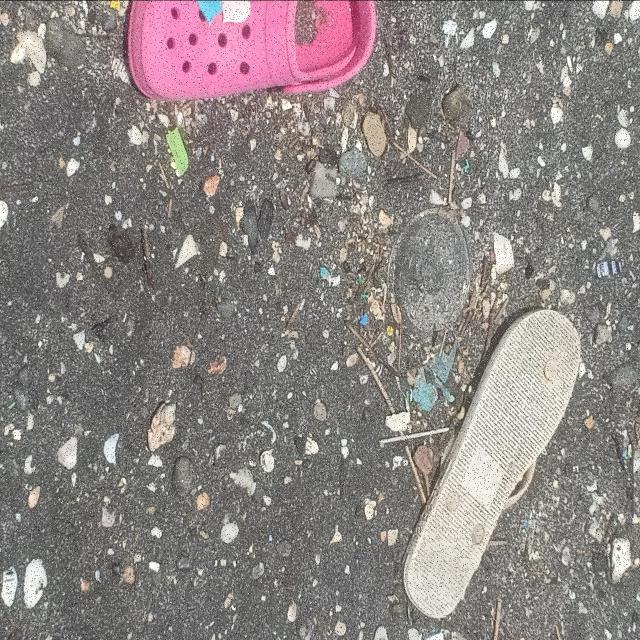rubber_waste: (402, 306, 582, 621), (120, 2, 379, 105)
